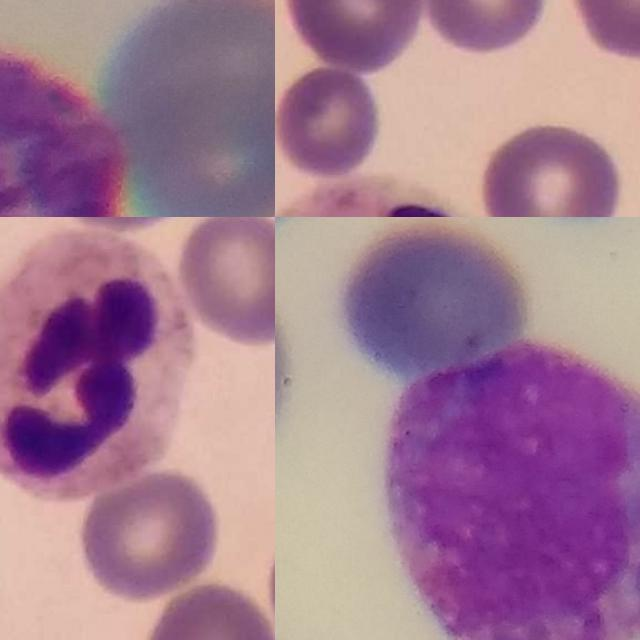Basophil: (383, 342, 640, 640), (0, 42, 125, 217)
Neutrophil: (0, 224, 198, 503)
